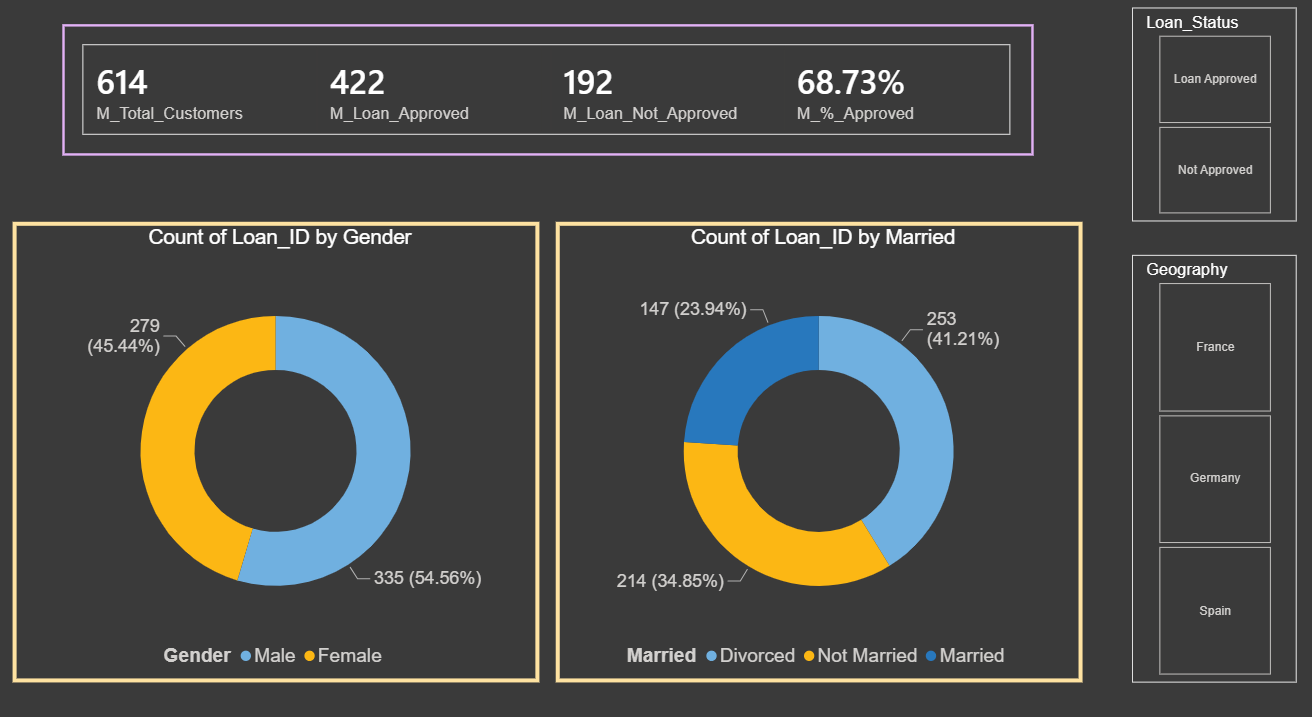

Layout of this report page (visuals, bound fields, positions):
{"tool":"powerbi","page":{"name":"Gender & Marital Status Distribution","canvas":[1280,720],"ordinal":4},"visuals":[{"type":"donutChart","fields":{"Category":["LoanData.Gender"],"Y":["CountNonNull(LoanData.Loan_ID)"]},"box":[16,224,512,448],"z":0},{"type":"donutChart","fields":{"Category":["LoanData.Married"],"Y":["CountNonNull(LoanData.Loan_ID)"]},"box":[544,224,512,448],"z":1},{"type":"cardVisual","fields":{"Data":["LoanData.M_Total_Customers","LoanData.M_Loan_Approved","LoanData.M_Loan_Not_Approved","LoanData.M_%_Approved"]},"box":[64,32,944,128],"z":2},{"type":"slicer","fields":{"Values":["LoanData.Loan_Status"]},"box":[1104,16,160,208],"z":3},{"type":"slicer","fields":{"Values":["LoanData.Geography"]},"box":[1104,256,160,416],"z":4}]}

Visuals, with their boxes in screenshot pixels (x1, y1, x2, y2), scaled from the page's 1280x720 canvas onto the 1312x717 screenshot:
donutChart - LoanData.Gender x CountNonNull(LoanData.Loan_ID): l=16, t=223, r=541, b=669
donutChart - LoanData.Married x CountNonNull(LoanData.Loan_ID): l=558, t=223, r=1082, b=669
cardVisual - LoanData.M_Total_Customers x LoanData.M_Loan_Approved: l=66, t=32, r=1033, b=159
slicer - LoanData.Loan_Status: l=1132, t=16, r=1296, b=223
slicer - LoanData.Geography: l=1132, t=255, r=1296, b=669
